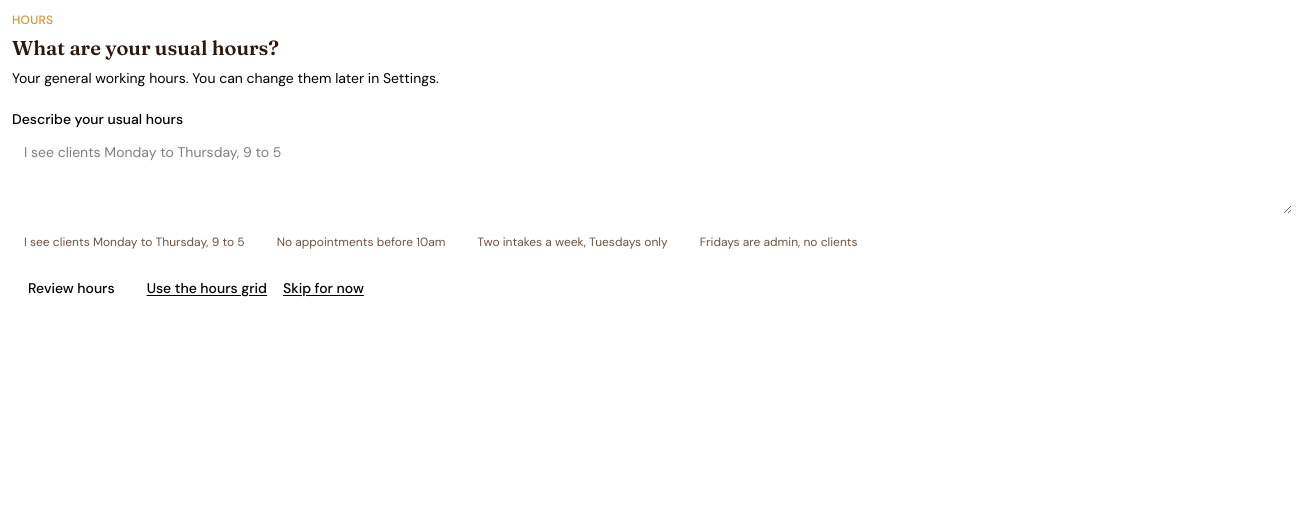
Test: CalendarHoursStep › falls back to the grid when the parser cannot be reached at all
The image size is (1304, 528).
Type "Mondays and Tuesdays, 9 to 5" into the text box labelled "Describe your usual hours" at (652, 174), box x1=12 y1=134 x2=1292 y2=214
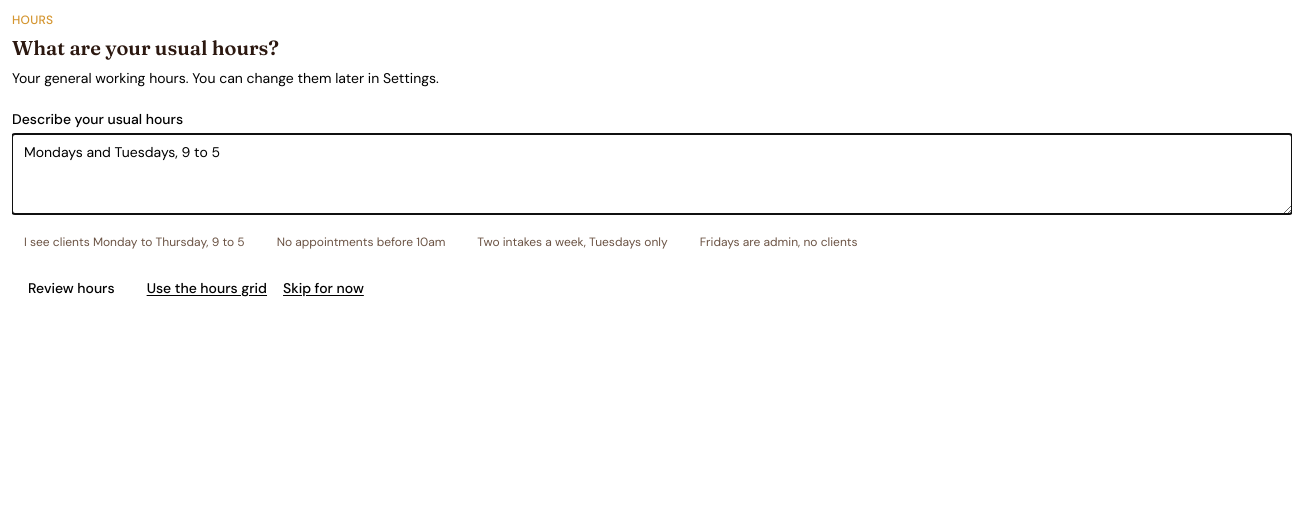
Click the button "Review hours" at (71, 288), box x1=12 y1=270 x2=131 y2=306
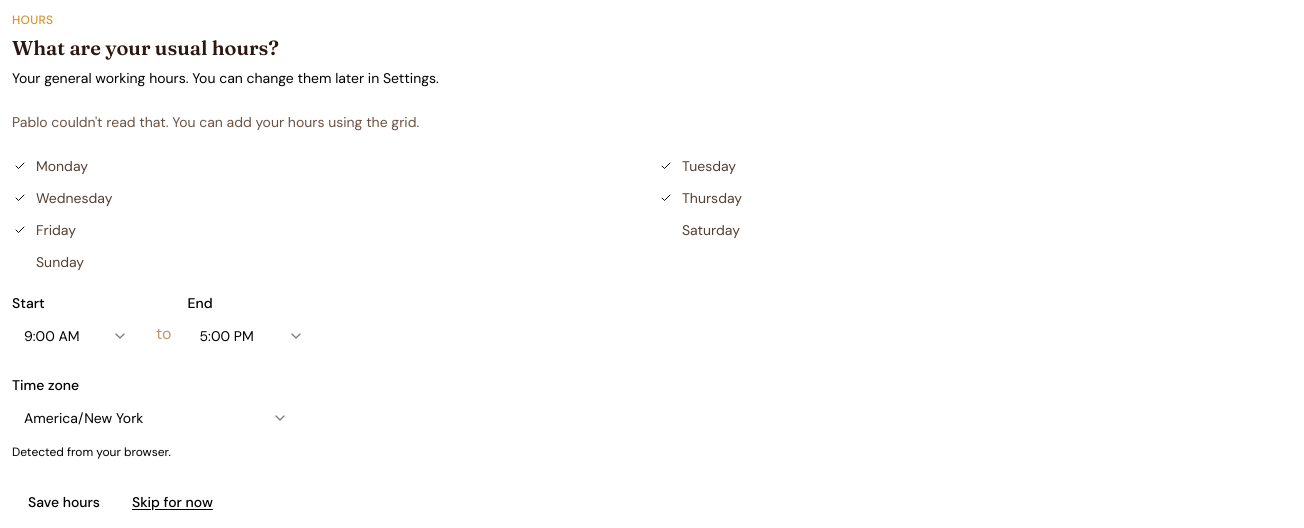
Expected: the checkbox named "Monday" next to "Monday" is shown, x1=12 y1=158 x2=28 y2=174
